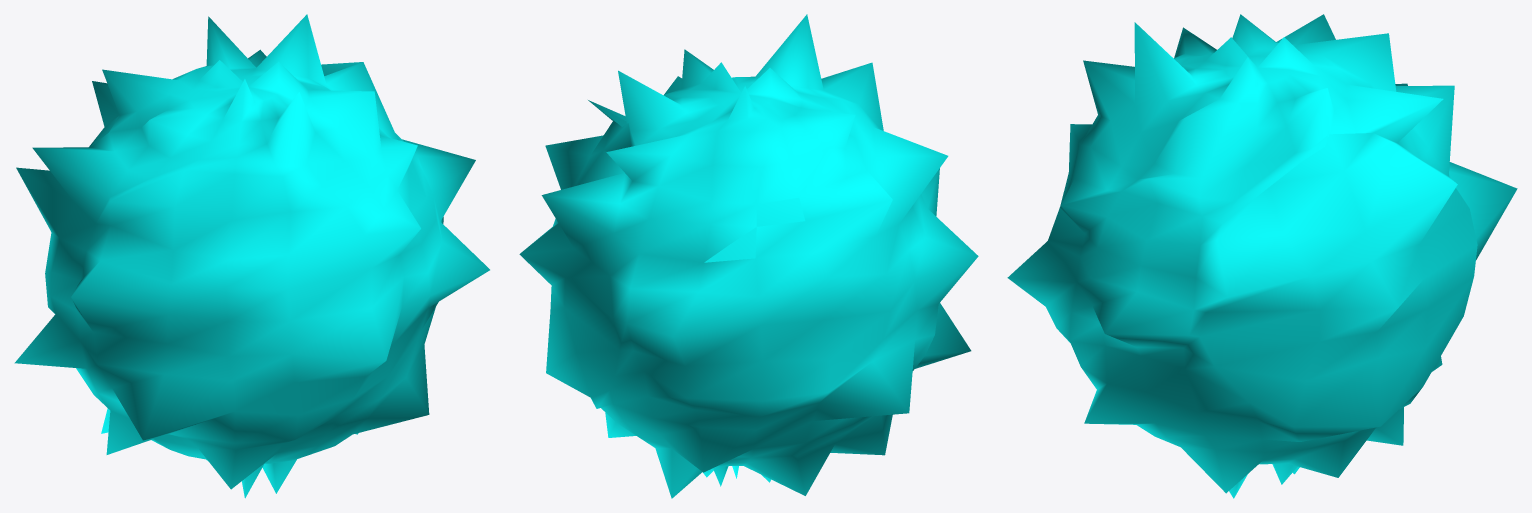
Rendered from Lightning_Bullet.fbx.
The picture shows the model from 3 angles, left to right: view 1: azimuth 30°, elevation 25°; view 2: azimuth 150°, elevation 25°; view 3: azimuth 270°, elevation 25°; orthographic projection. The views are drawn at different scales.
Parts seen in each view (by area): view 1: pSphere1; view 2: pSphere1; view 3: pSphere1.
Boxes of the visible parts, x1,y1,x2,y2 form: pSphere1: (14, 14, 489, 498); pSphere1: (519, 14, 978, 498); pSphere1: (1007, 14, 1517, 498).
Size of the model in its own units: 4.17 by 4.19 by 4.17.
